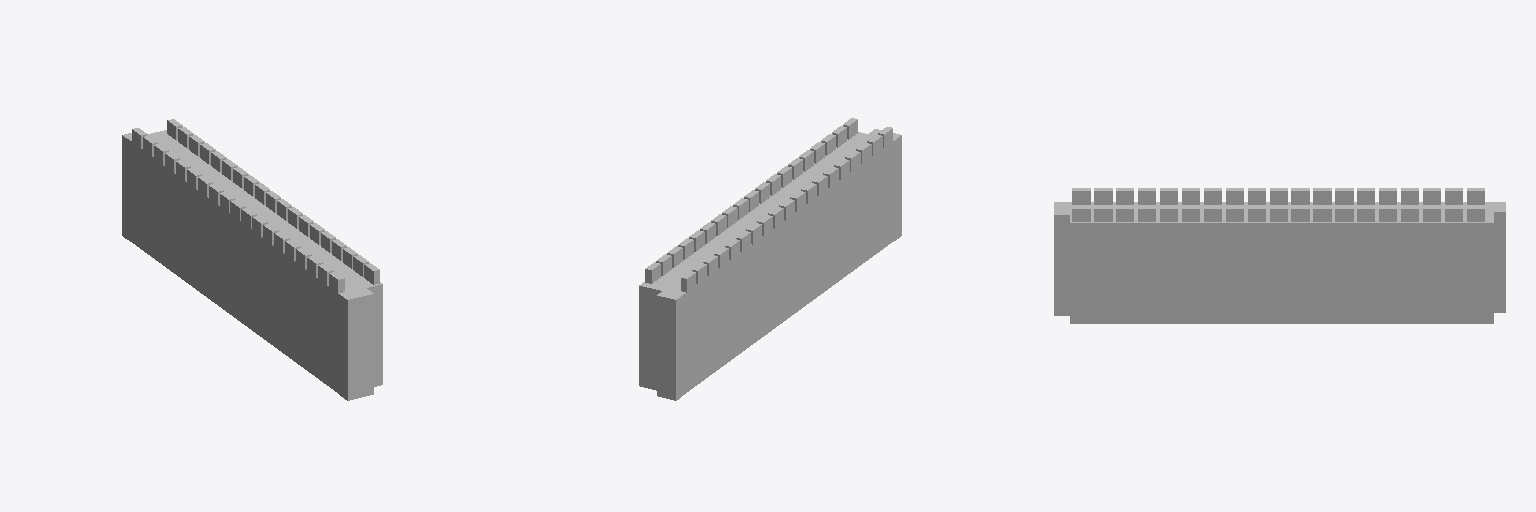
Rendered from left_wall.obj.
3 views of the same model, side by side, from view 1: azimuth 30°, elevation 25°; view 2: azimuth 150°, elevation 25°; view 3: azimuth 270°, elevation 25° (orthographic).
Parts seen in each view (by area): view 1: Left_Wall; view 2: Left_Wall; view 3: Left_Wall.
Boxes of the visible parts, box(x1,y1,x2,y2) form: Left_Wall: box(122, 119, 382, 400); Left_Wall: box(639, 118, 901, 400); Left_Wall: box(1054, 188, 1505, 323).
Bounding box in the file's own units: 53.01 × 134 × 478.